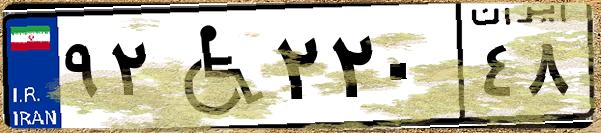0: (385, 28, 445, 110)
2: (270, 28, 330, 110), (330, 28, 385, 110), (110, 28, 158, 98)
4: (475, 38, 525, 113)
8: (525, 38, 570, 115)
9: (57, 26, 110, 100)
ژ (معلولین و جانبازان): (158, 12, 270, 120)
